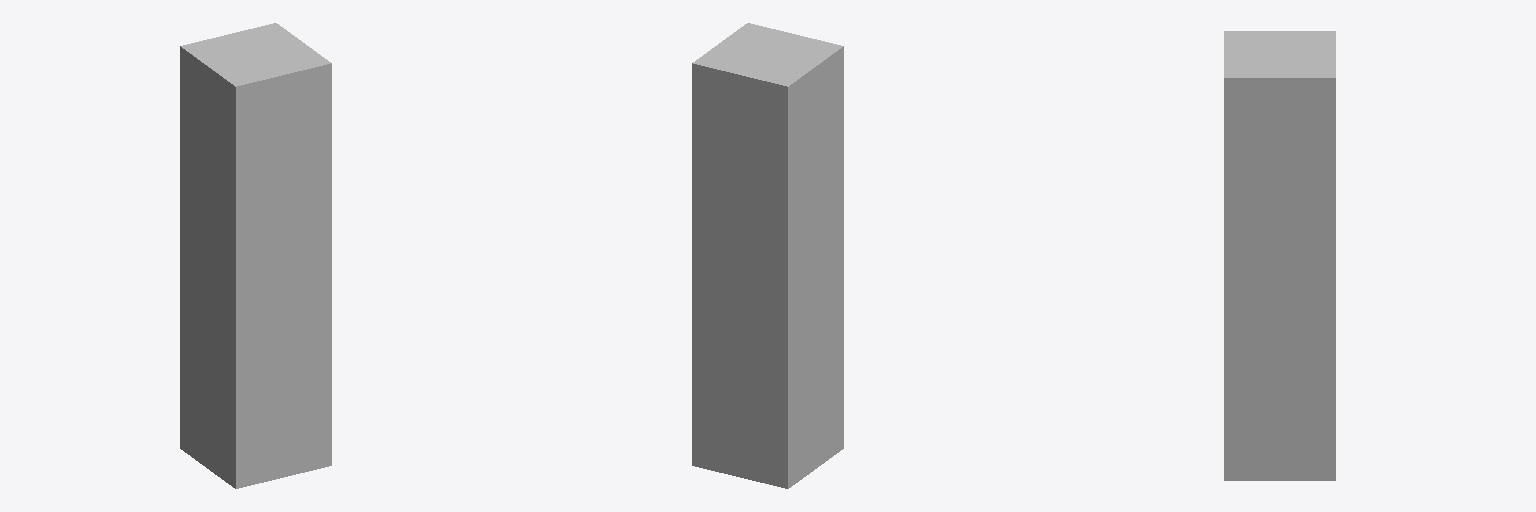
The model's file is Grass_4.obj.
3 views of the same model, side by side, from view 1: azimuth 30°, elevation 25°; view 2: azimuth 150°, elevation 25°; view 3: azimuth 270°, elevation 25° (orthographic).
Bounding box in the file's own units: 0.025 × 0.1 × 0.025.